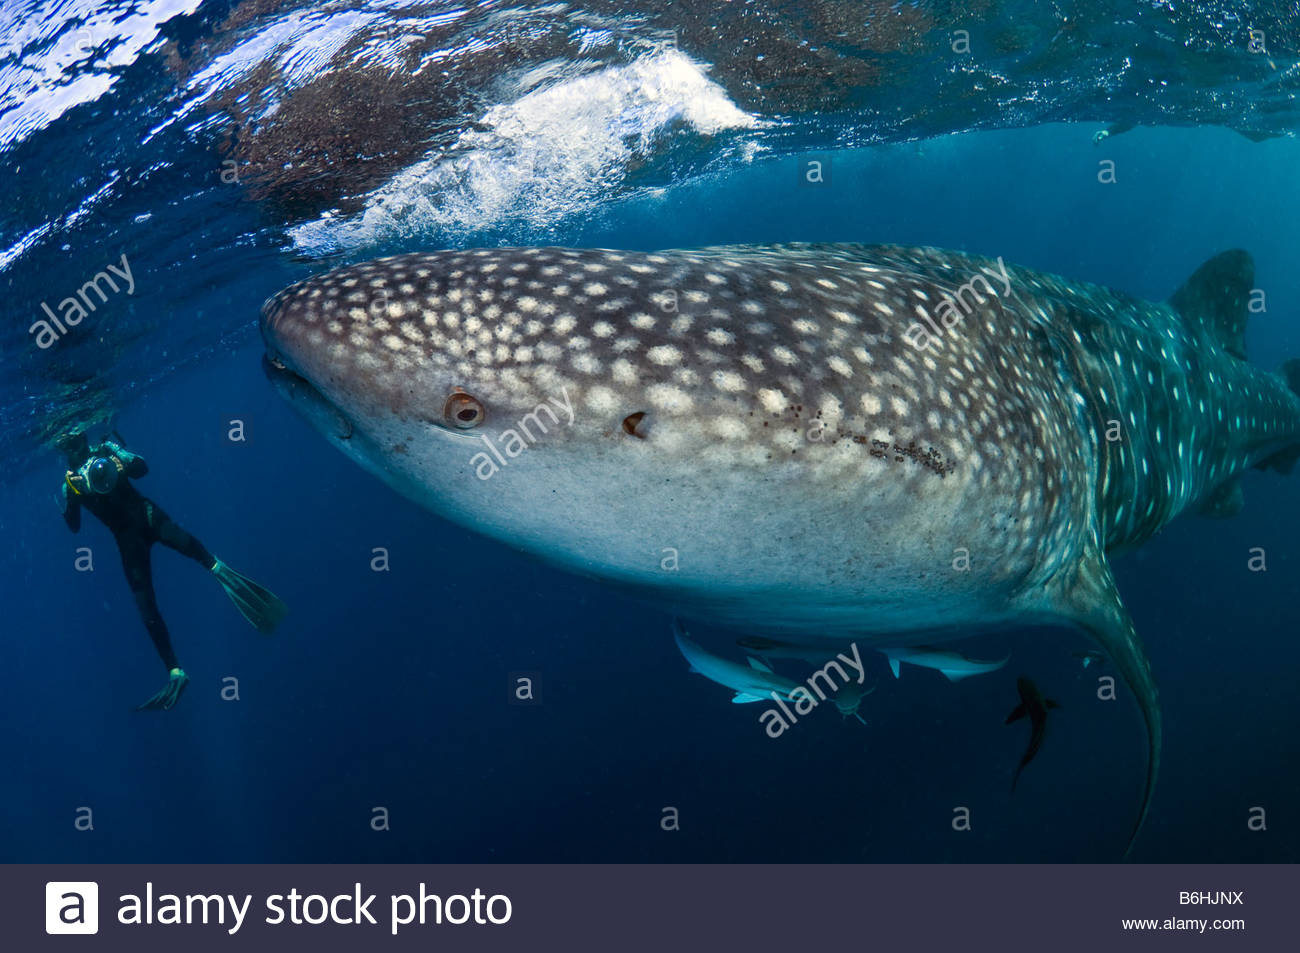Rhincodon_typusw: (250, 235, 1282, 767)
